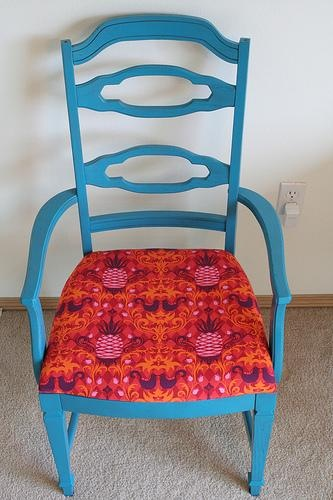obstacle: (21, 14, 290, 494)
